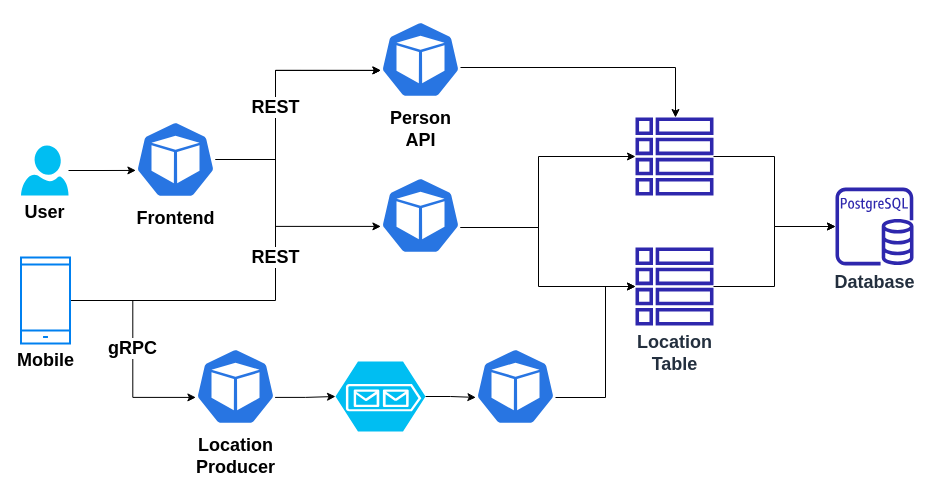
Some shapes in this 932 by 499 pixel diagram are drawn without their labels. The shapes that lost their labels are listed below. From the top down, each one's centre as x and y in pixels, then its label:
At (674,156): "Person Table".
At (420,215): "Connection API".
At (380,396): "Kafka Broker".
At (515,386): "Location Consumer".
